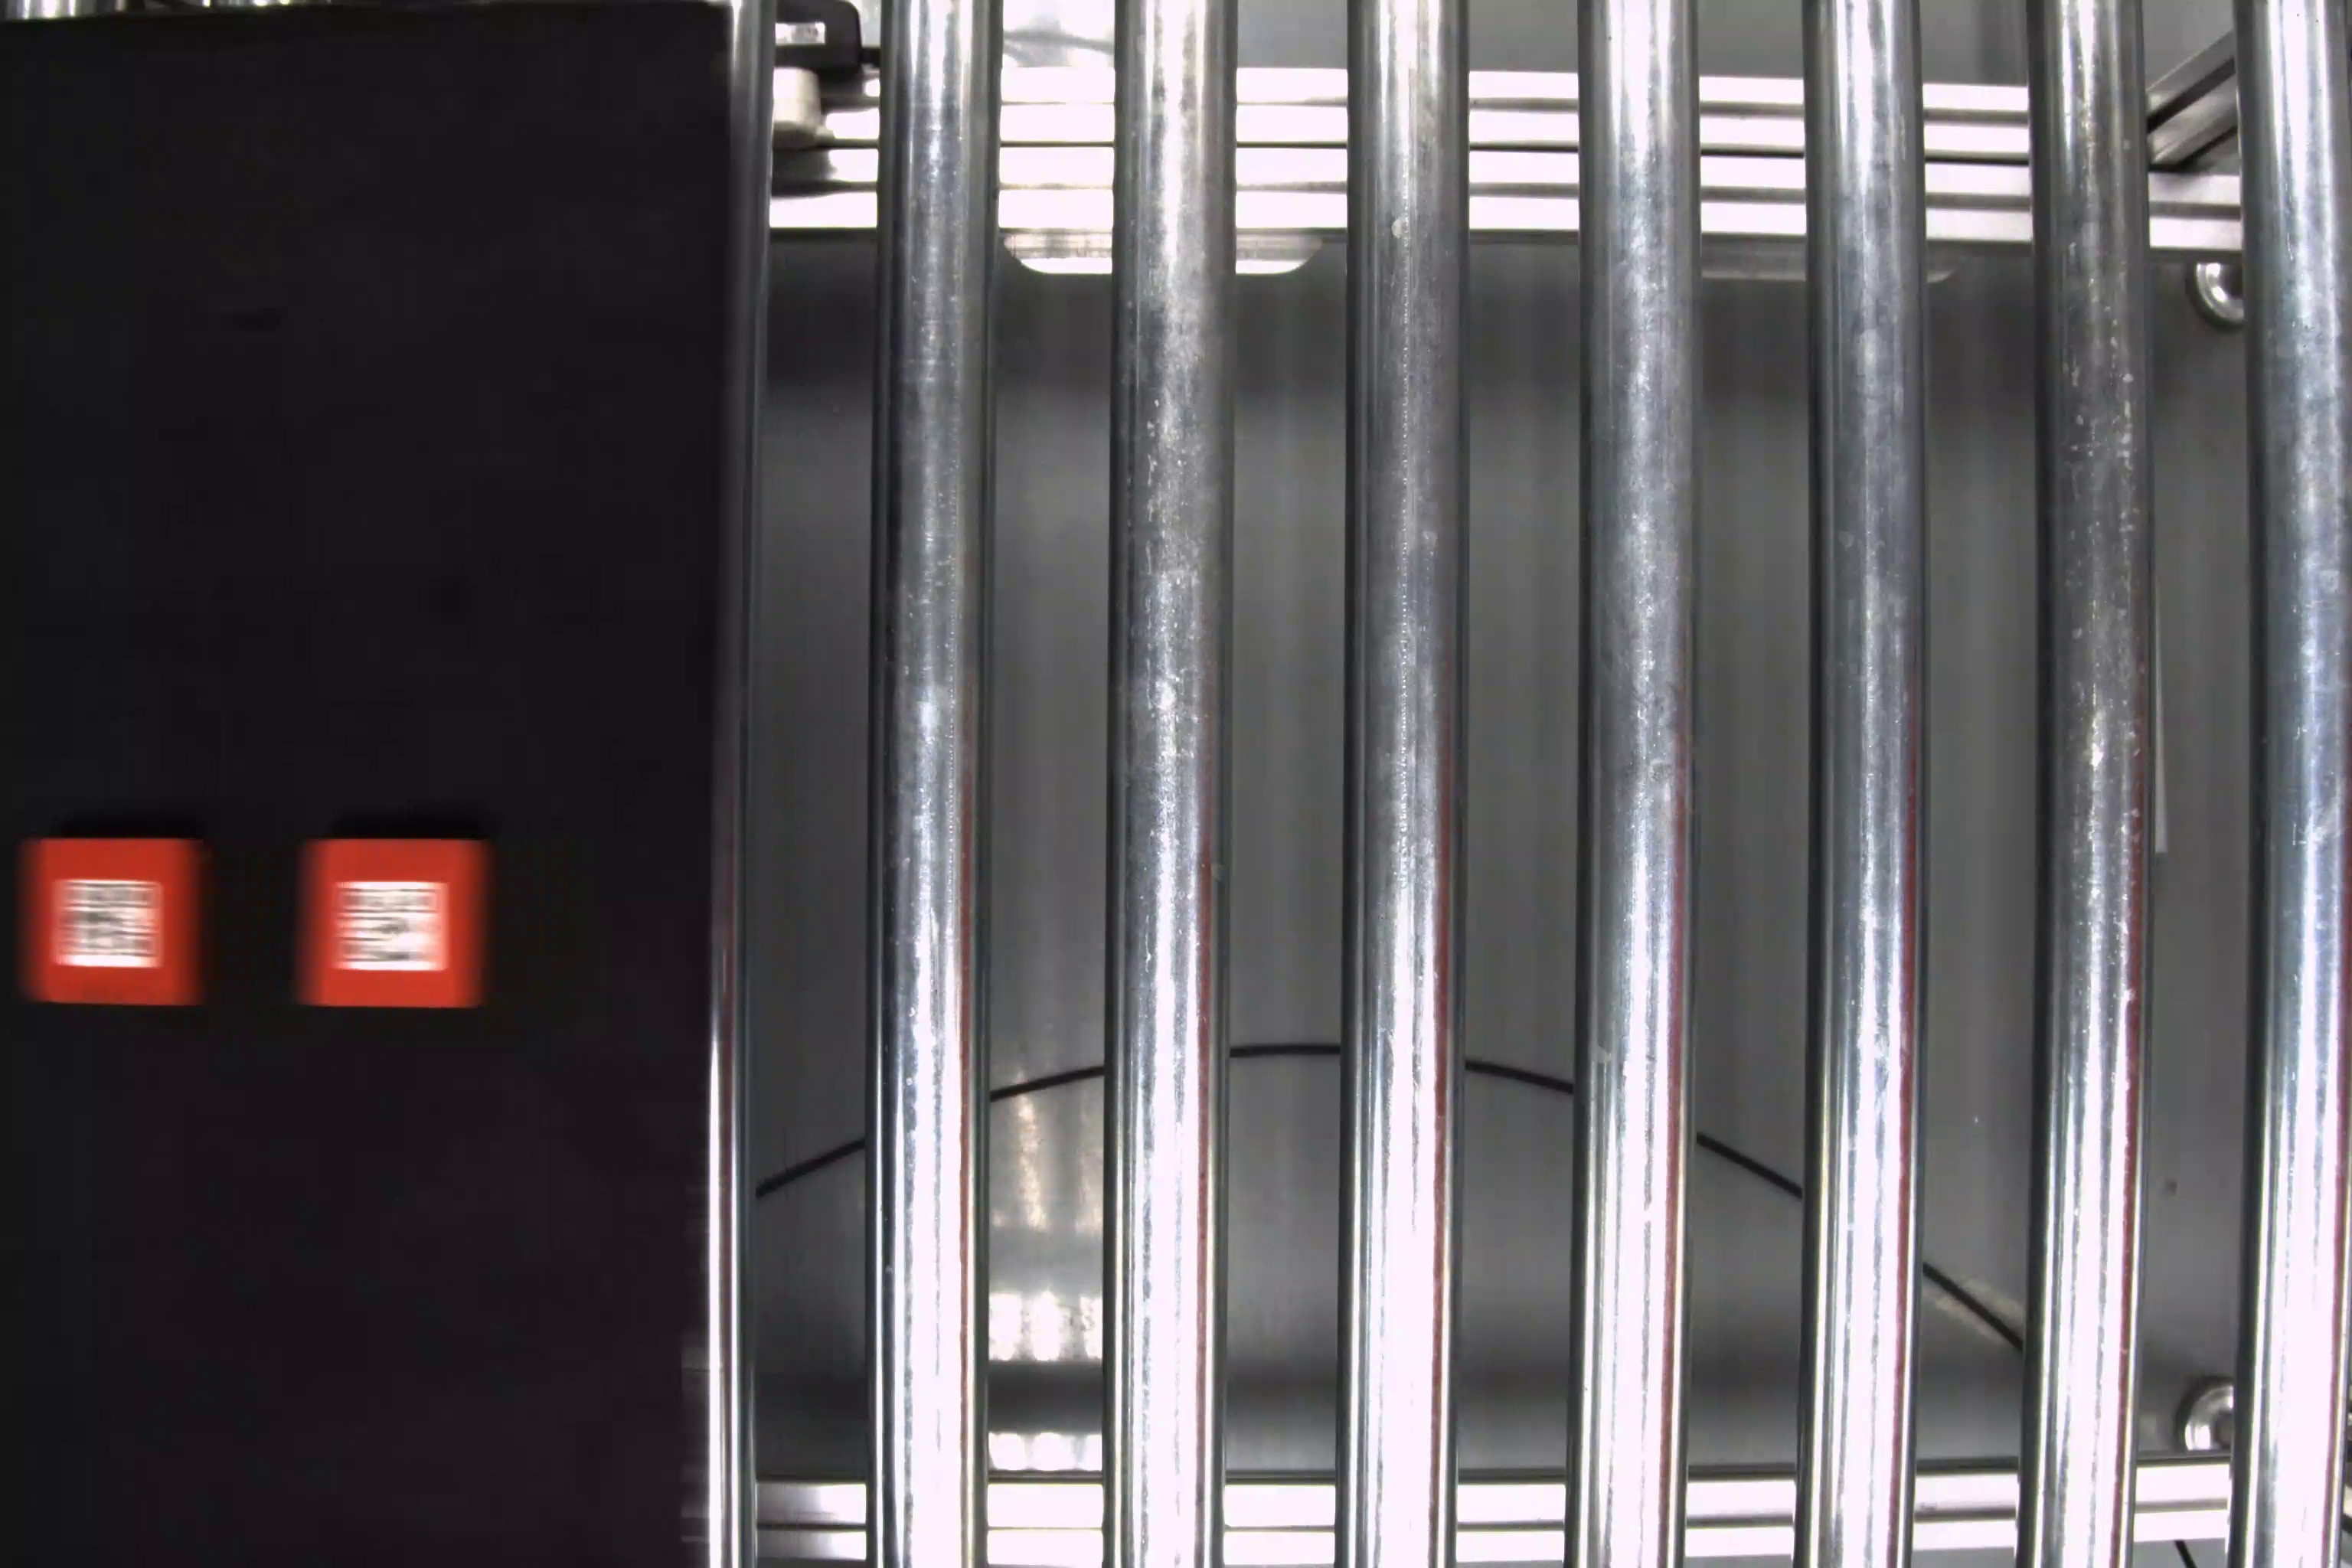wood: (296, 836, 497, 1011), (19, 835, 210, 1013)
